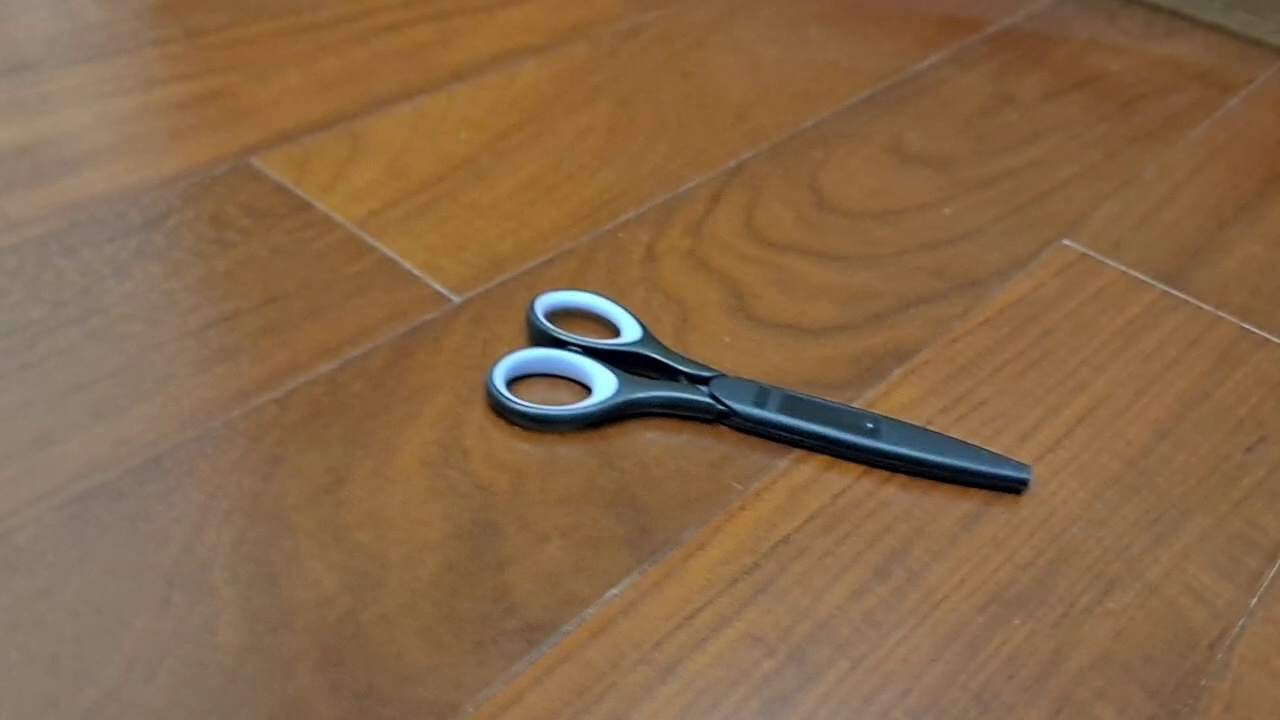scissors: (485, 288, 1035, 500)
